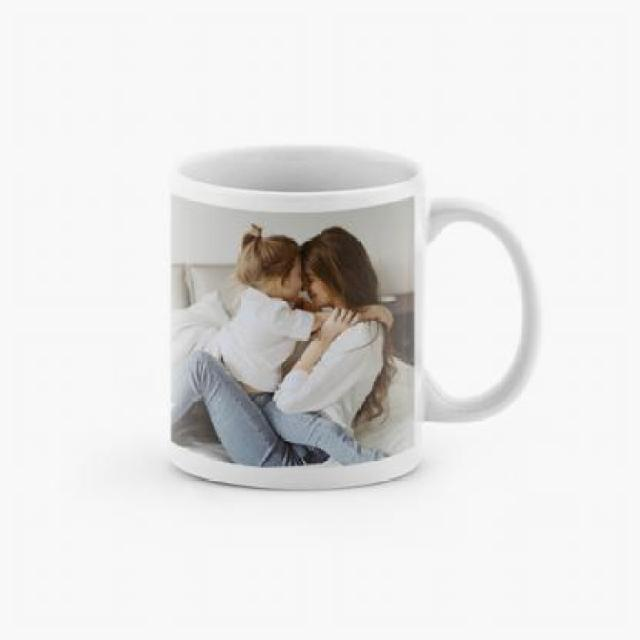cup: (155, 138, 542, 496)
